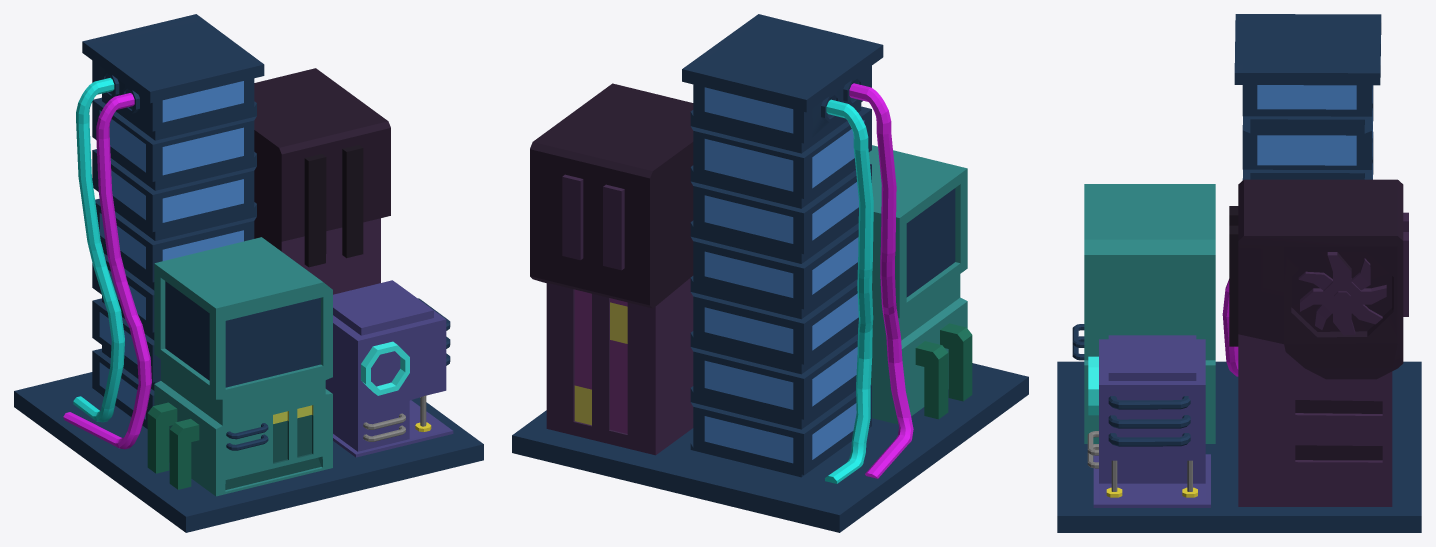
The model's file is Building_A_01.001.fbx.
3 views of the same model, side by side, from view 1: azimuth 30°, elevation 25°; view 2: azimuth 150°, elevation 25°; view 3: azimuth 270°, elevation 25° (orthographic). The views are drawn at different scales.
Visible parts, largest first — view 1: bill1, bill4, bill2, Base, bill3; view 2: bill1, bill2, Base, bill4; view 3: bill2, bill1, bill4, Base, bill3.
Boxes of the visible parts, x1=… form: bill1: x1=63, y1=14, x2=264, y2=449; bill4: x1=147, y1=237, x2=332, y2=496; bill2: x1=254, y1=68, x2=390, y2=294; Base: x1=14, y1=372, x2=483, y2=532; bill3: x1=325, y1=280, x2=453, y2=457; bill1: x1=682, y1=14, x2=913, y2=483; bill2: x1=530, y1=83, x2=693, y2=455; Base: x1=512, y1=363, x2=1028, y2=532; bill4: x1=869, y1=145, x2=972, y2=424; bill2: x1=1229, y1=179, x2=1408, y2=506; bill1: x1=1222, y1=14, x2=1381, y2=376; bill4: x1=1072, y1=184, x2=1215, y2=443; Base: x1=1057, y1=361, x2=1421, y2=532; bill3: x1=1087, y1=335, x2=1210, y2=507.
Bounding box in the file's own units: 1493 × 1761 × 1493.
1 material, 1 textured.
